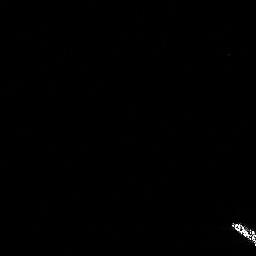ship: (230, 220, 256, 248)
